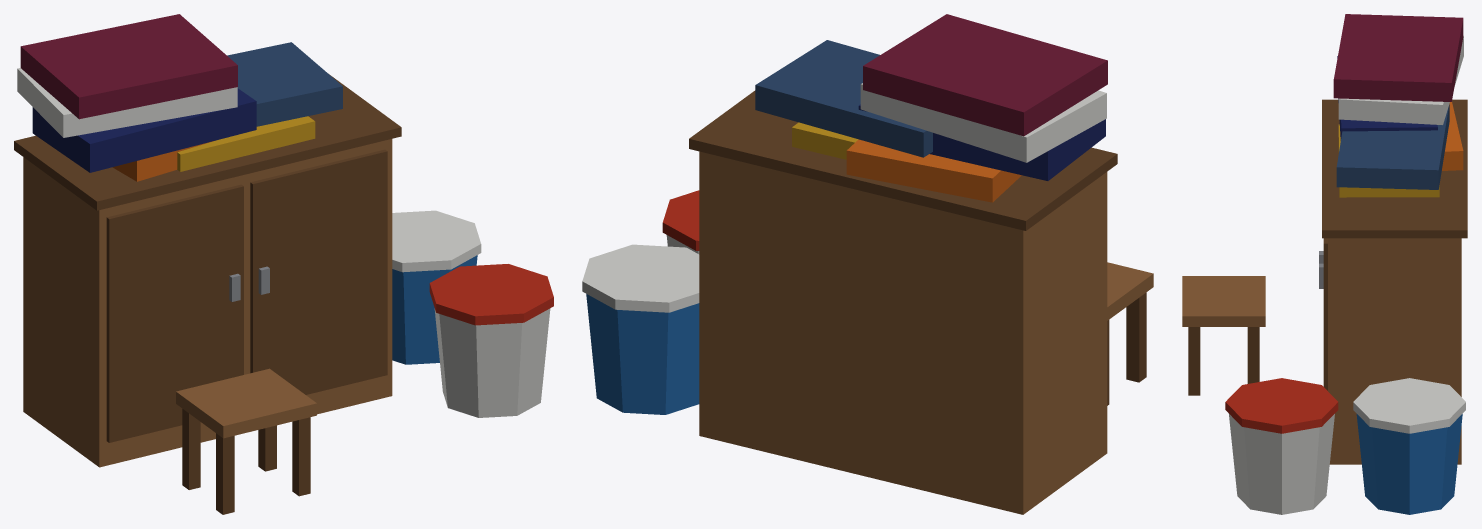
The model's file is prop_cupboard-clothes.glb.
The picture shows the model from 3 angles, left to right: view 1: azimuth 30°, elevation 25°; view 2: azimuth 150°, elevation 25°; view 3: azimuth 270°, elevation 25°; orthographic projection. The views are drawn at different scales.
Parts seen in each view (by area): view 1: body; view 2: body; view 3: body.
Part boxes in pixels (x1=…): body: x1=14, y1=14, x2=553, y2=514; body: x1=582, y1=14, x2=1153, y2=514; body: x1=1182, y1=14, x2=1467, y2=514.
Bounding box in the file's own units: 1.5 × 1.19 × 0.96.
